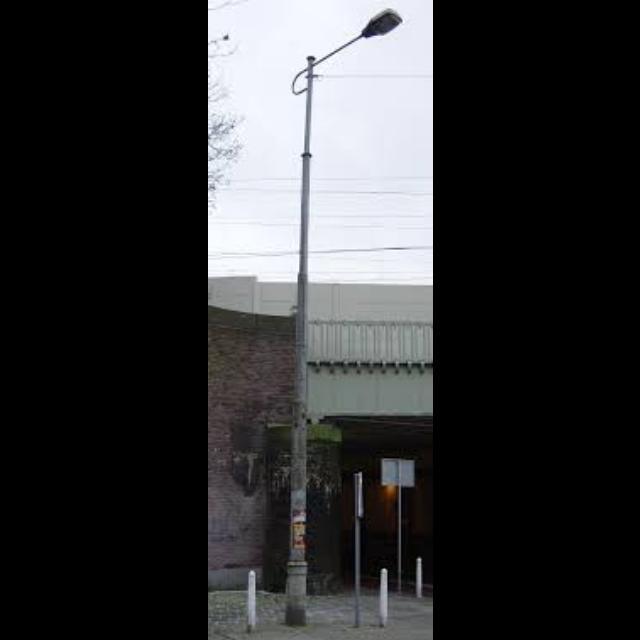Street-Lamp: (280, 4, 402, 628)
